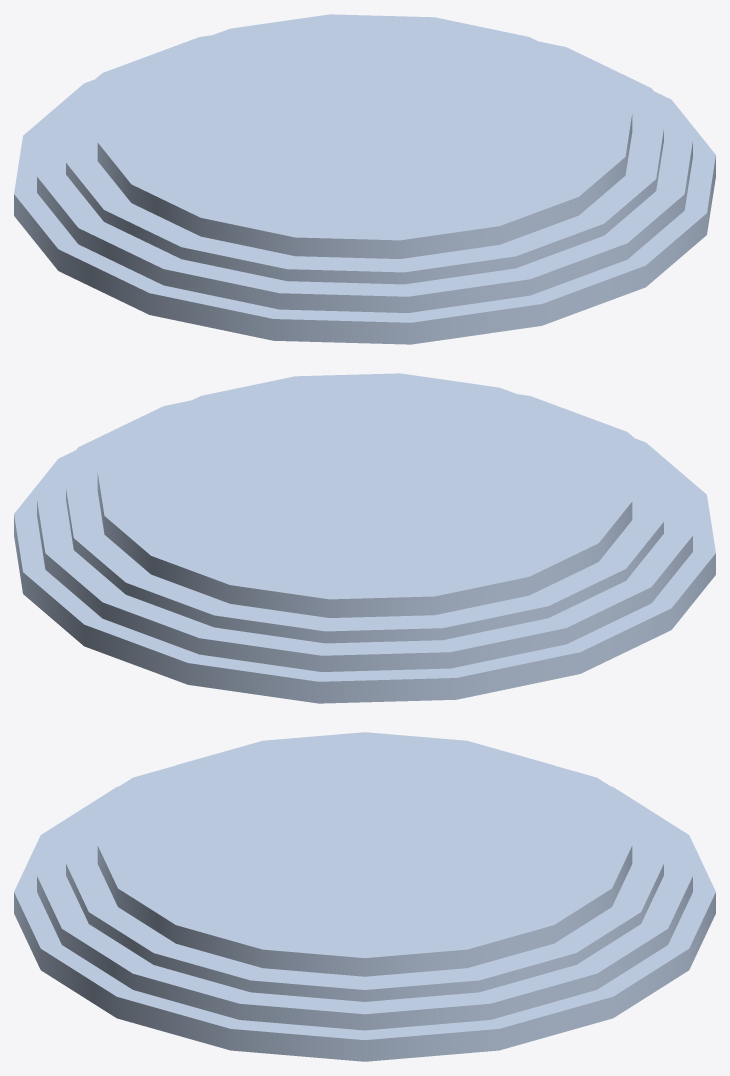
The model's file is 小广场.fbx.
3 views of the same model, one above another, from view 1: azimuth 30°, elevation 25°; view 2: azimuth 150°, elevation 25°; view 3: azimuth 270°, elevation 25° (orthographic).
Parts seen in each view (by area): view 1: 空白; view 2: 空白; view 3: 空白.
Part boxes in pixels (bbox=[...]): 空白: bbox=[14, 14, 715, 344]; 空白: bbox=[14, 373, 715, 703]; 空白: bbox=[14, 732, 715, 1061].
Bounding box in the file's own units: 40.33 × 4.33 × 40.33.
